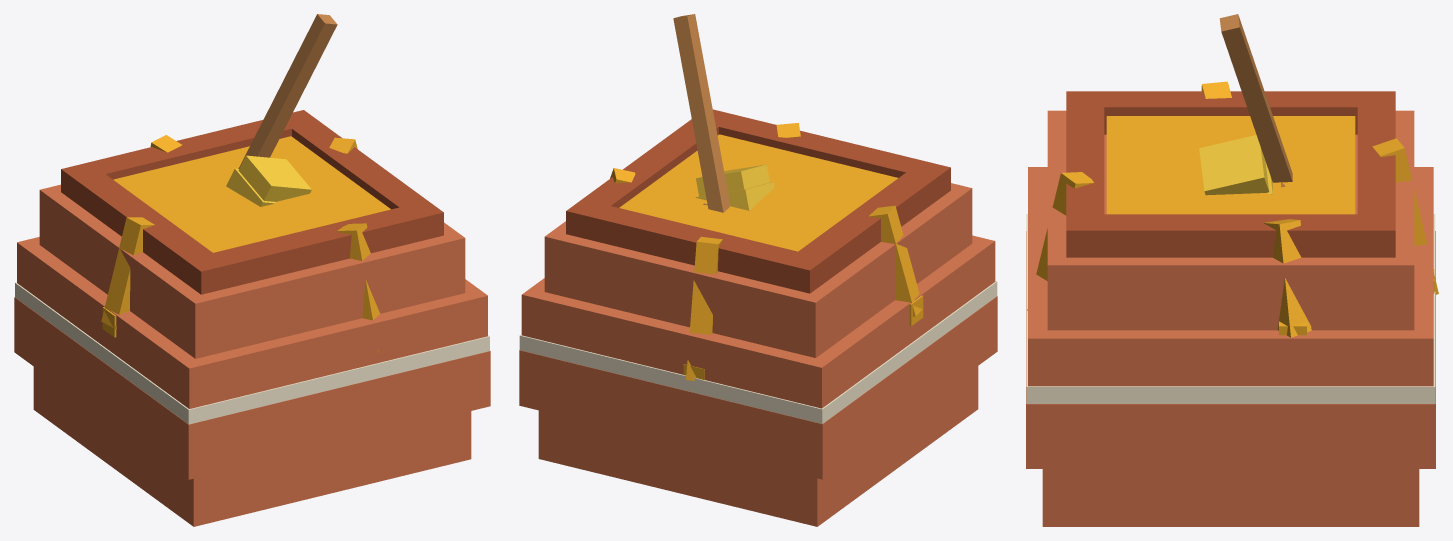
Rendered from honey-pot-hat-blocky.glb.
The picture shows the model from 3 angles, left to right: view 1: azimuth 30°, elevation 25°; view 2: azimuth 150°, elevation 25°; view 3: azimuth 270°, elevation 25°; orthographic projection. The views are drawn at different scales.
Visible parts, largest first — view 1: honey-pot-hat; view 2: honey-pot-hat; view 3: honey-pot-hat.
Boxes of the visible parts, box(x1,y1,x2,y2) form: honey-pot-hat: box(14, 14, 490, 526); honey-pot-hat: box(519, 14, 997, 526); honey-pot-hat: box(1026, 14, 1438, 526).
Bounding box in the file's own units: 0.1533 × 0.1953 × 0.1529.
